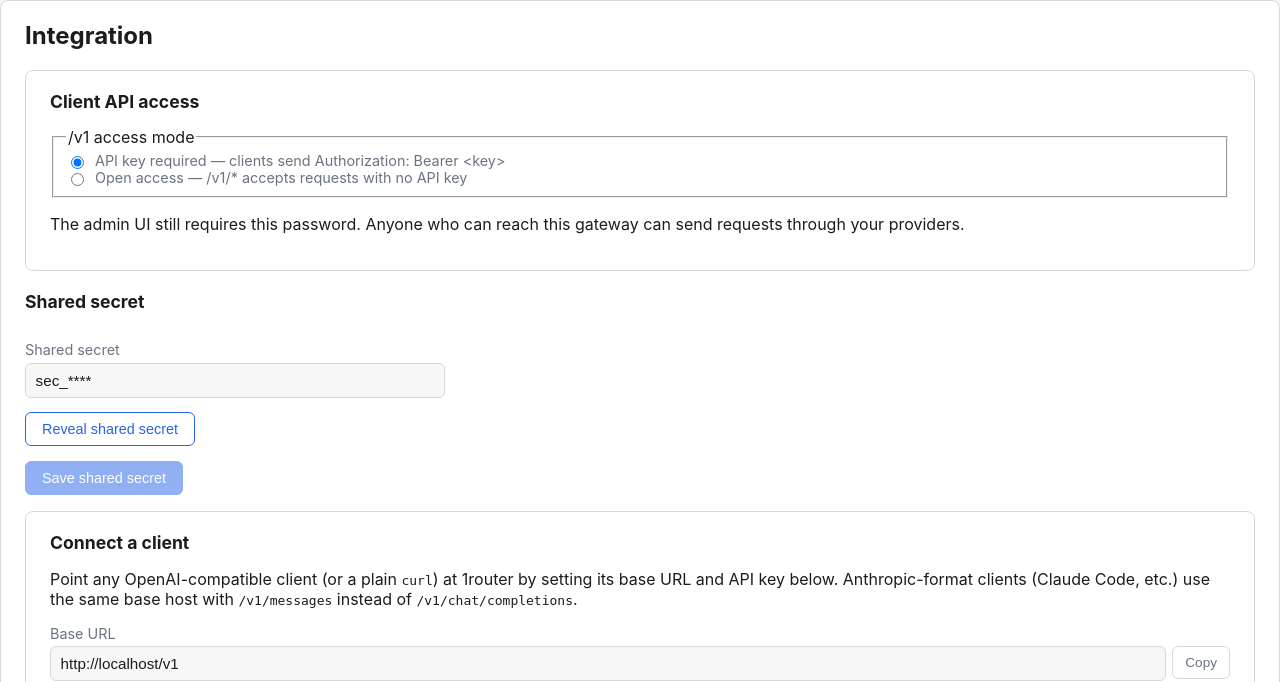
Test case: Integration › requires an extra confirmation for open access on a non-loopback listener
The width and height of the screenshot is (1280, 682).
Click the radio button labelled "Open access — /v1/* accepts requests with no API key": click(78, 179) [71,173,84,186]
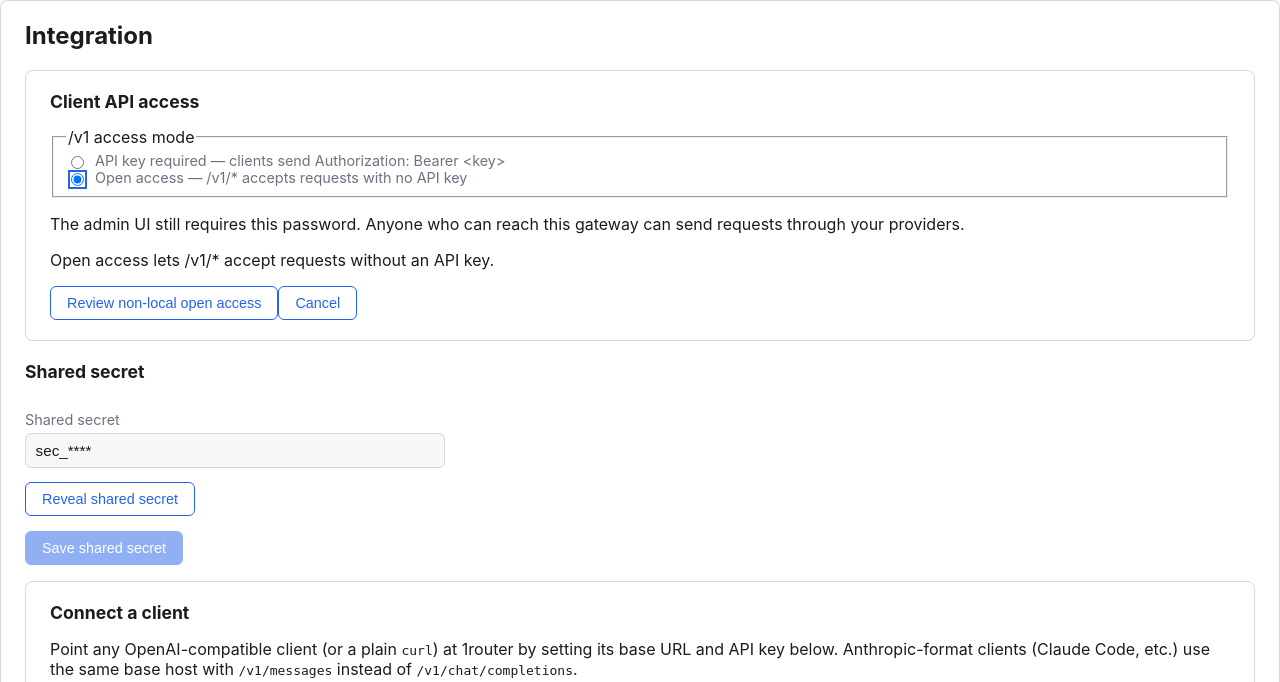
Click the button "Review non-local open access": click(164, 303) [50,286,278,320]
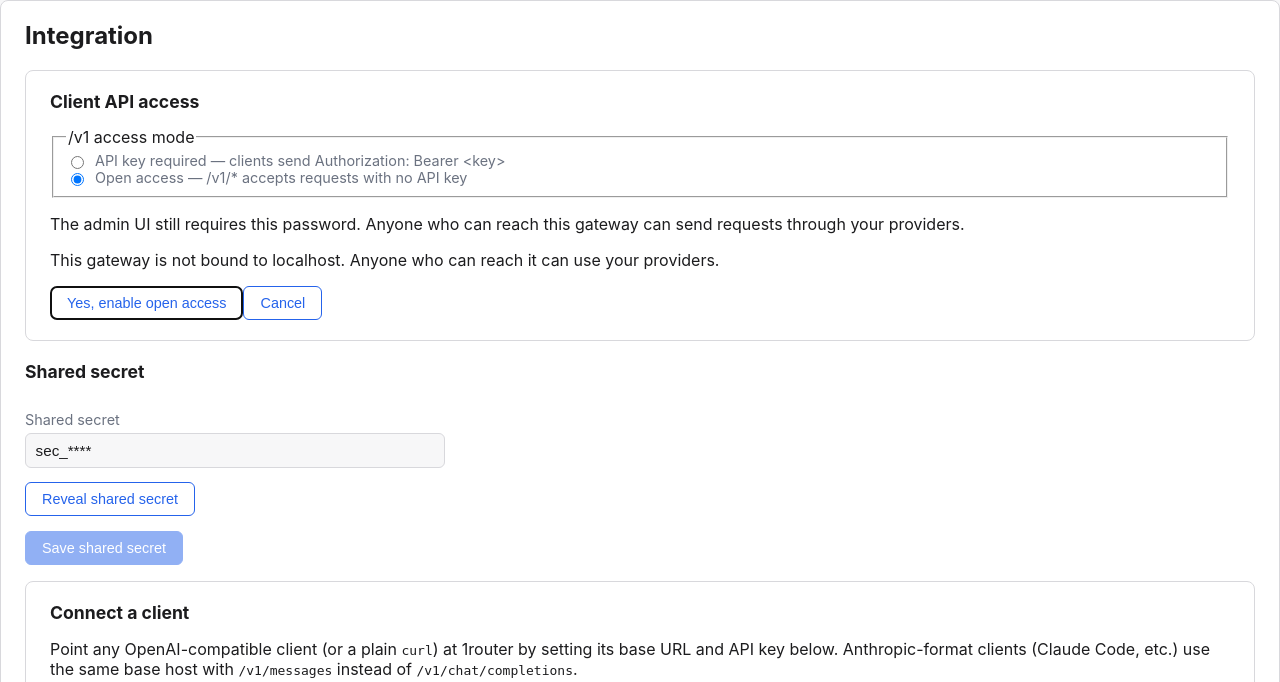
expect the button "Yes, enable open access" is shown: met, box [50,286,244,320]
